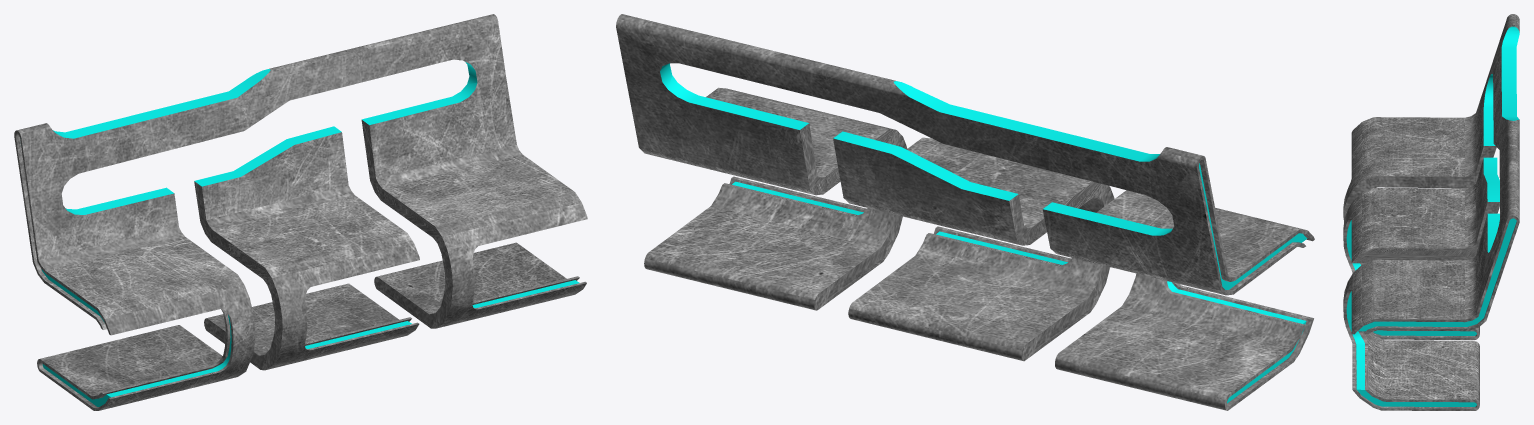
File: bench.glb
3 renders of one model, left to right at view 1: azimuth 30°, elevation 25°; view 2: azimuth 150°, elevation 25°; view 3: azimuth 270°, elevation 25°, orthographic. The views are drawn at different scales.
Parts seen in each view (by area): view 1: Bench.001_0.001; view 2: Bench.001_0.001; view 3: Bench.001_0.001.
Boxes of the visible parts, x1,y1,x2,y2 form: Bench.001_0.001: (14, 14, 587, 410); Bench.001_0.001: (616, 14, 1314, 410); Bench.001_0.001: (1343, 14, 1519, 410).
Bounding box in the file's own units: 1.43 × 0.6433 × 0.5269.
Materials: 3 (2 with a texture image).
